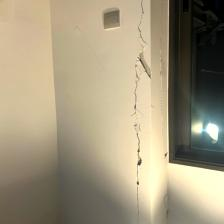Medium: (124, 2, 151, 209)
